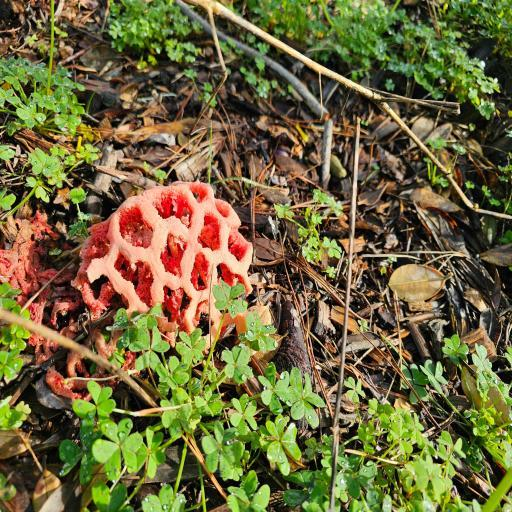mushroom: (47, 153, 278, 375)
